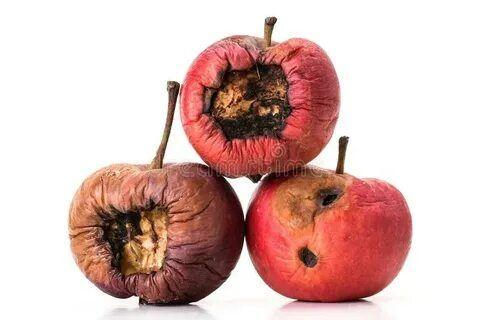Apple: (69, 167, 243, 304), (244, 162, 413, 300), (180, 35, 338, 178)
